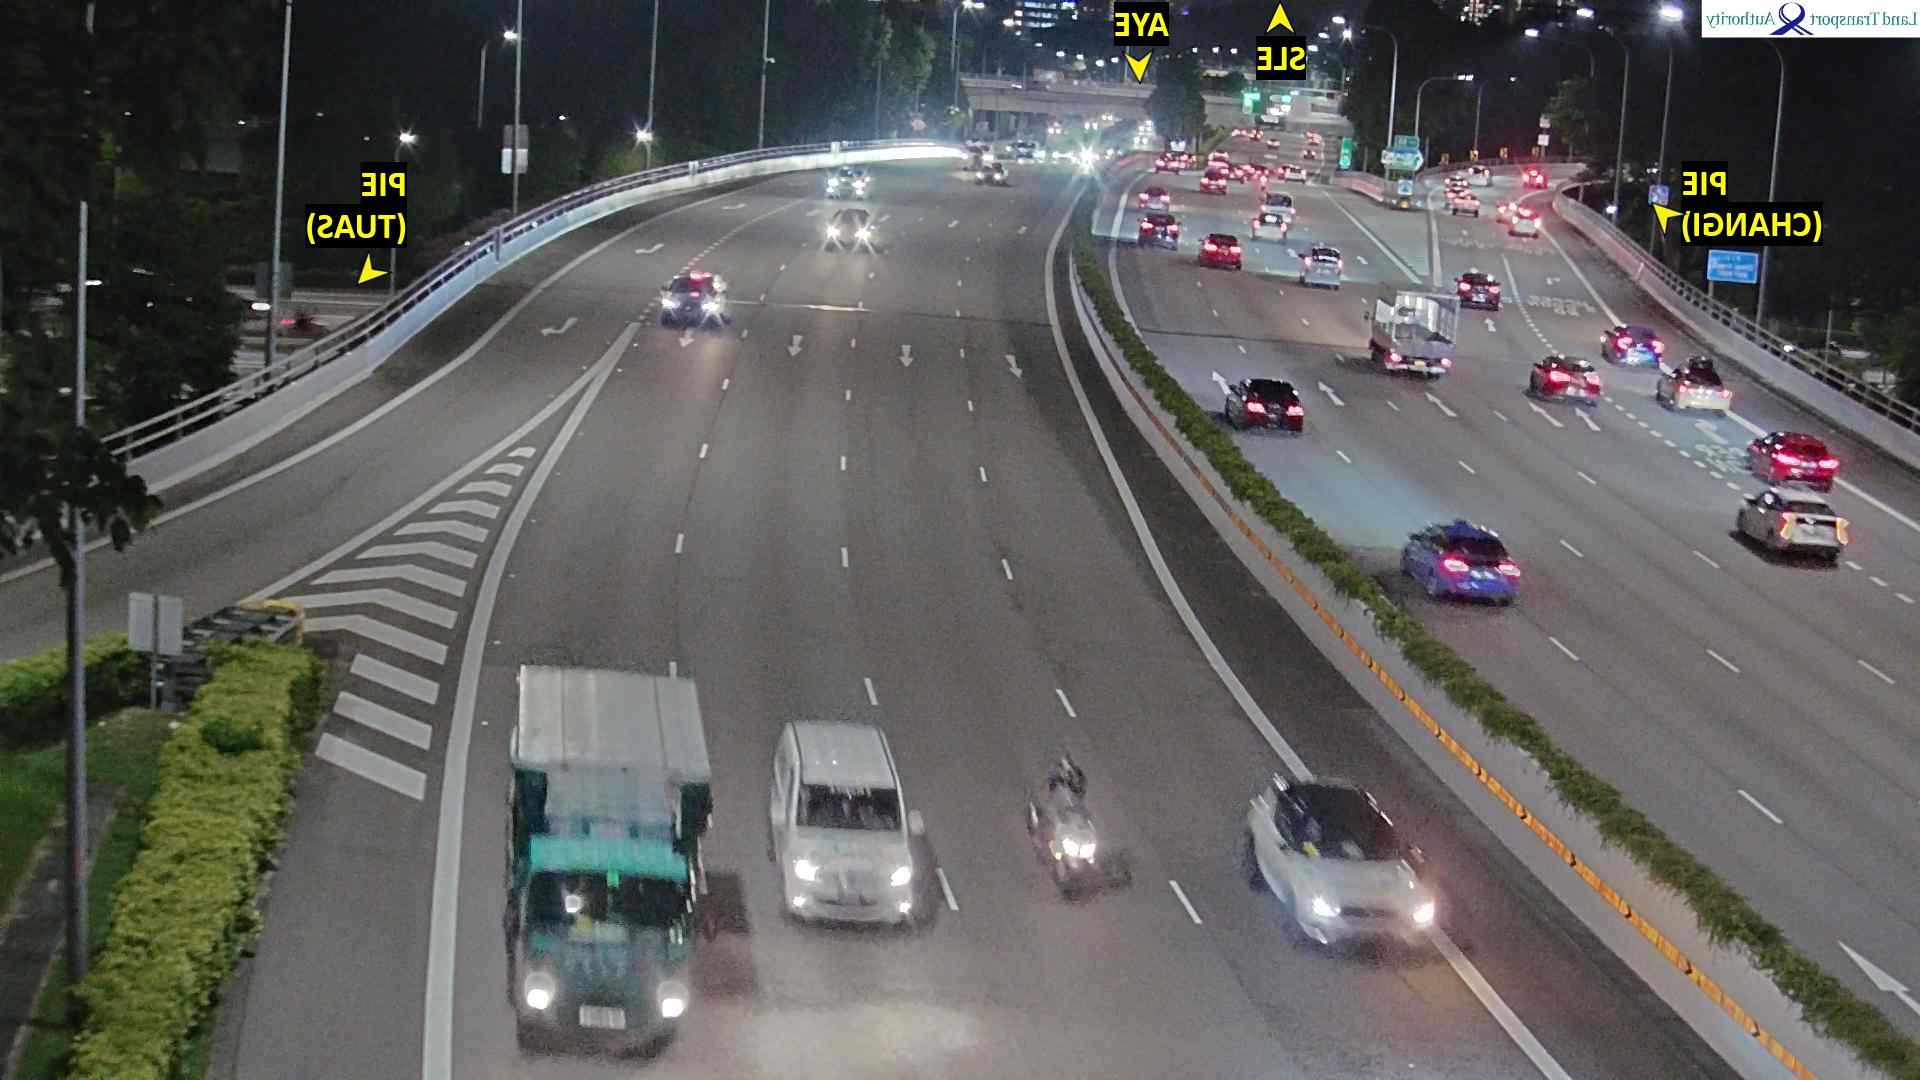incoming: (493, 861, 721, 1059), (1278, 787, 1443, 955), (764, 771, 934, 933), (1032, 783, 1109, 901), (659, 275, 729, 328), (825, 208, 879, 248), (825, 166, 871, 198), (953, 139, 996, 173), (974, 161, 1008, 183)
